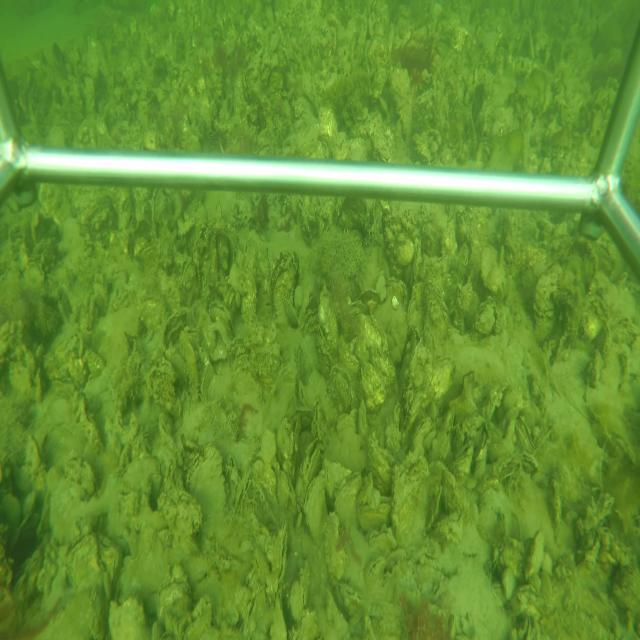Oyster-Closed: (391, 455, 442, 548), (184, 444, 228, 513), (65, 529, 102, 589), (400, 323, 423, 411), (272, 249, 299, 319), (232, 450, 257, 523), (367, 431, 395, 495), (304, 474, 326, 547), (326, 460, 359, 508), (157, 573, 193, 617), (446, 435, 474, 490), (406, 234, 422, 330), (270, 522, 289, 598), (334, 471, 362, 518), (326, 366, 354, 413), (431, 356, 454, 411), (207, 297, 234, 335), (315, 323, 334, 376), (285, 415, 301, 477), (525, 528, 543, 581), (311, 398, 329, 447), (200, 358, 216, 405), (367, 527, 395, 551), (517, 415, 535, 452), (413, 417, 434, 446), (356, 398, 369, 438), (353, 286, 380, 303)
Oyster-Indeterminate: (144, 356, 182, 421)
Oyster-Open: (300, 437, 323, 488)
